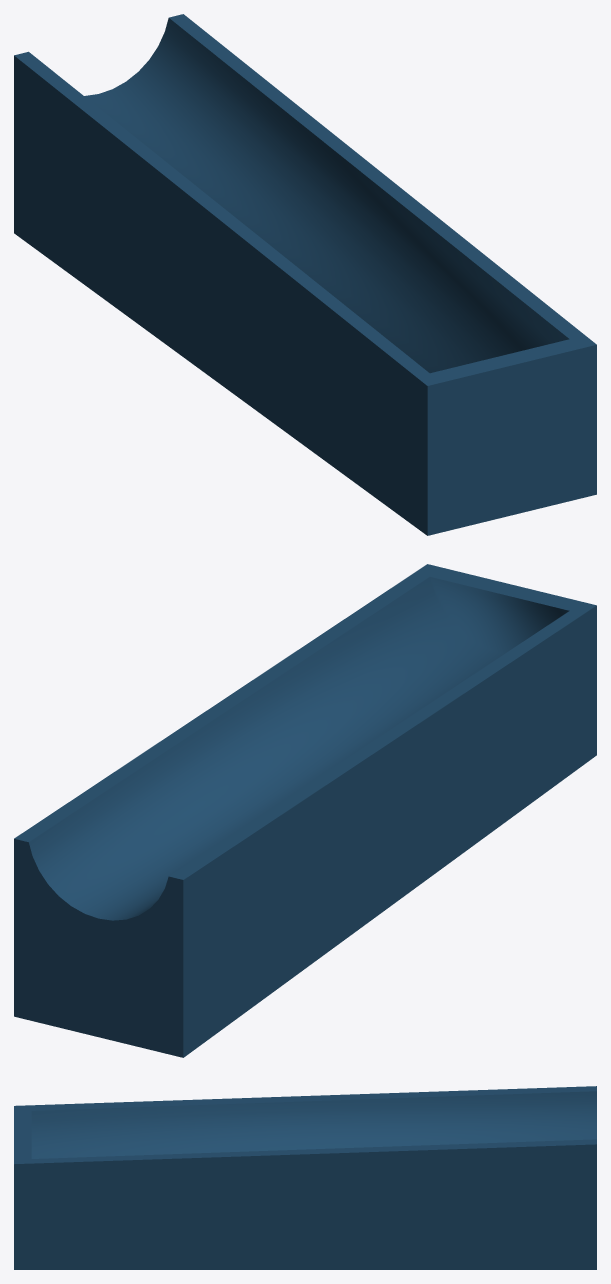
Rendered from Stand.fbx.
3 renders of one model, top to bottom at view 1: azimuth 30°, elevation 25°; view 2: azimuth 150°, elevation 25°; view 3: azimuth 270°, elevation 25°, orthographic. The views are drawn at different scales.
Parts seen in each view (by area): view 1: Cube; view 2: Cube; view 3: Cube.
Boxes of the visible parts, x1,y1,x2,y2 form: Cube: (14,14,596,535); Cube: (14,564,596,1057); Cube: (14,1086,596,1269).
Bounding box in the file's own units: 237 × 237 × 1000.
